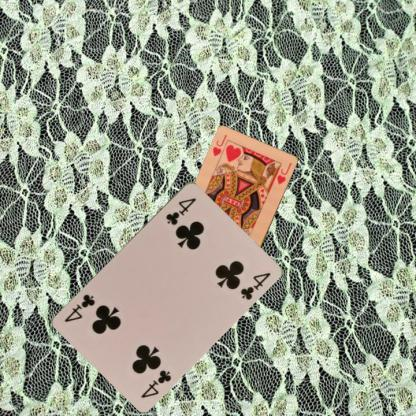4c: (138, 366, 173, 400), (163, 195, 198, 226)
Jh: (210, 132, 228, 158)
